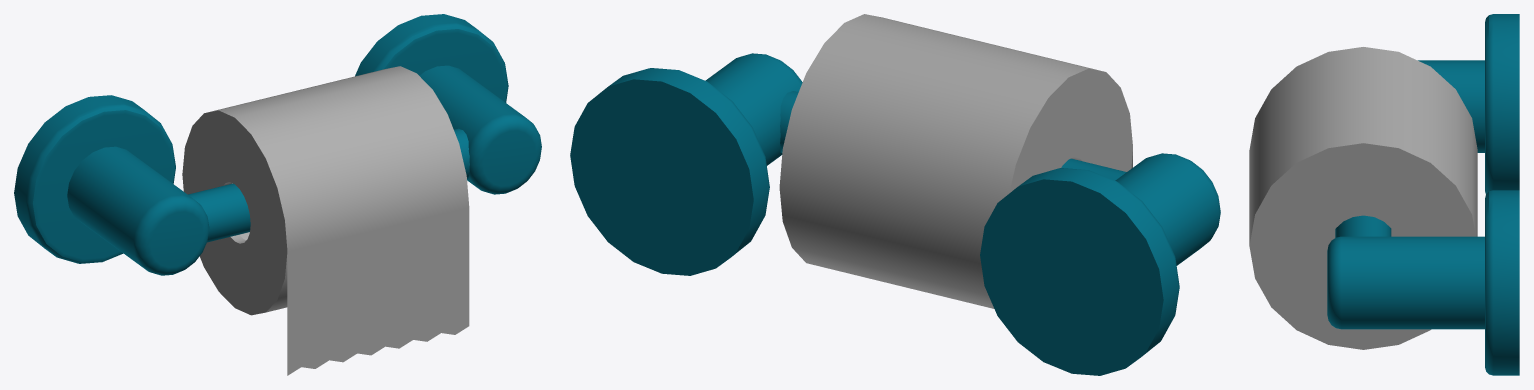
Rendered from toiletPaper.fbx.
3 views of the same model, side by side, from view 1: azimuth 30°, elevation 25°; view 2: azimuth 150°, elevation 25°; view 3: azimuth 270°, elevation 25° (orthographic). The views are drawn at different scales.
Visible parts, largest first — view 1: pCylinder11, pPlane2, polySurface3, polySurface4, polySurface2, polySurface6, polySurface5; view 2: pCylinder11, polySurface6, polySurface3, polySurface4, polySurface2, polySurface5; view 3: pCylinder11, polySurface2, polySurface6, polySurface3, polySurface4, polySurface5.
Boxes of the visible parts, <box> form: pCylinder11: <box>182,66,469,315</box>; pPlane2: <box>287,207,469,375</box>; polySurface3: <box>14,95,175,263</box>; polySurface4: <box>67,146,209,275</box>; polySurface2: <box>419,65,541,194</box>; polySurface6: <box>355,14,508,102</box>; polySurface5: <box>188,128,469,242</box>; pCylinder11: <box>779,14,1132,308</box>; polySurface6: <box>570,68,769,275</box>; polySurface3: <box>980,168,1179,375</box>; polySurface4: <box>1115,153,1220,265</box>; polySurface2: <box>705,53,802,165</box>; polySurface5: <box>780,91,1126,180</box>; pCylinder11: <box>1249,47,1477,349</box>; polySurface2: <box>1327,236,1484,329</box>; polySurface6: <box>1485,190,1519,375</box>; polySurface3: <box>1485,14,1519,193</box>; polySurface4: <box>1418,60,1484,152</box>; polySurface5: <box>1335,215,1391,237</box>.
Size of the model in its own units: 32.31 by 14.1 by 14.45.
